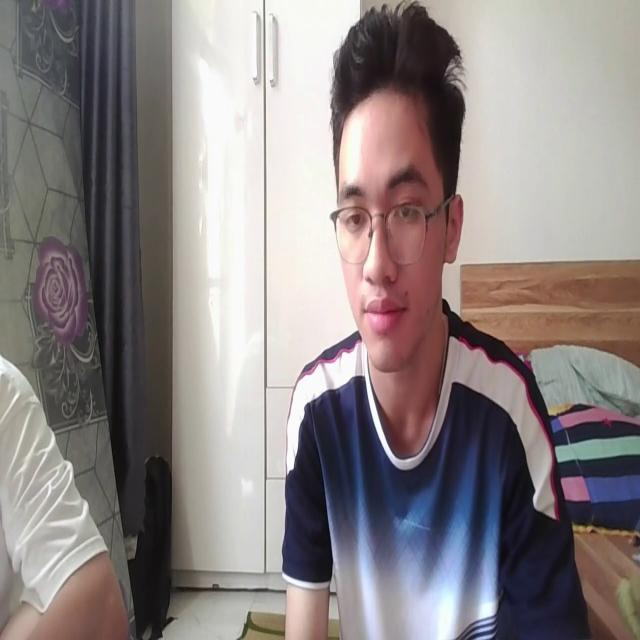extra_person: (0, 348, 136, 640)
student: (281, 6, 591, 640)
